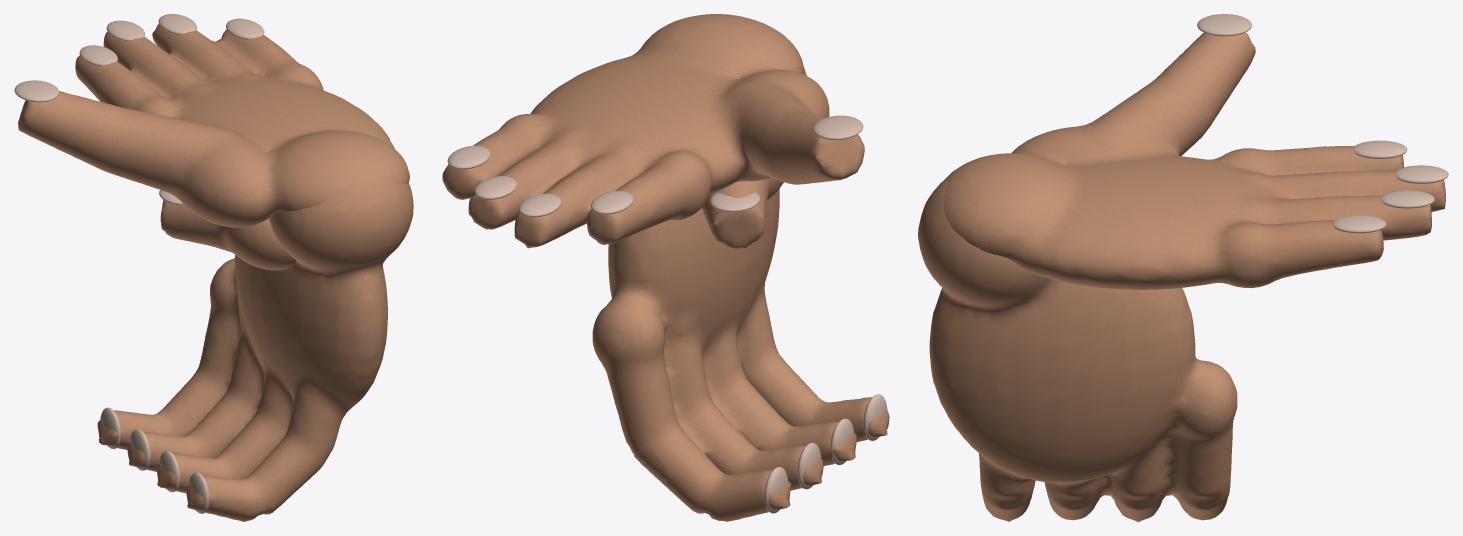
The model's file is ViewHands.glb.
3 views of the same model, side by side, from view 1: azimuth 30°, elevation 25°; view 2: azimuth 150°, elevation 25°; view 3: azimuth 270°, elevation 25° (orthographic). The views are drawn at different scales.
Parts seen in each view (by area): view 1: Continuous right grip, Continuous left hand, Switch thumb, Thumb nail, Nail.003, Nail, Nail.002, Nail.001, Nail.005, Nail.007; view 2: Continuous left hand, Continuous right grip, Switch thumb, Thumb nail, Nail.001, Nail.003, Nail.002, Nail, Thumb nail.001, Nail.005, Nail.007, Nail.004 (+1 smaller); view 3: Continuous left hand, Continuous right grip, Thumb nail, Nail.003, Nail, Nail.001, Nail.002.
Boxes of the visible parts, x1=… form: Continuous right grip: x1=97, y1=177, x2=413, y2=521; Continuous left hand: x1=18, y1=24, x2=409, y2=227; Switch thumb: x1=160, y1=200, x2=296, y2=270; Thumb nail: x1=14, y1=80, x2=59, y2=102; Nail.003: x1=226, y1=18, x2=264, y2=39; Nail: x1=79, y1=45, x2=117, y2=65; Nail.002: x1=158, y1=14, x2=196, y2=34; Nail.001: x1=106, y1=20, x2=144, y2=40; Nail.005: x1=129, y1=429, x2=150, y2=470; Nail.007: x1=188, y1=472, x2=209, y2=513; Continuous left hand: x1=442, y1=14, x2=864, y2=248; Continuous right grip: x1=592, y1=66, x2=889, y2=521; Switch thumb: x1=701, y1=177, x2=783, y2=248; Thumb nail: x1=813, y1=115, x2=863, y2=140; Nail.001: x1=518, y1=193, x2=561, y2=217; Nail.003: x1=447, y1=145, x2=490, y2=169; Nail.002: x1=474, y1=176, x2=517, y2=199; Nail: x1=591, y1=191, x2=633, y2=214; Thumb nail.001: x1=710, y1=192, x2=760, y2=212; Nail.005: x1=797, y1=442, x2=821, y2=489; Nail.007: x1=863, y1=394, x2=887, y2=440; Nail.004: x1=764, y1=467, x2=787, y2=513; Continuous left hand: x1=944, y1=32, x2=1445, y2=289; Continuous right grip: x1=918, y1=180, x2=1237, y2=521; Thumb nail: x1=1197, y1=14, x2=1251, y2=36; Nail.003: x1=1332, y1=215, x2=1386, y2=233; Nail: x1=1353, y1=140, x2=1407, y2=158; Nail.001: x1=1395, y1=165, x2=1448, y2=183; Nail.002: x1=1381, y1=190, x2=1434, y2=208.
Size of the model in its own units: 0.1175 by 0.1378 by 0.1538.
Materials: 2 (1 with a texture image).
